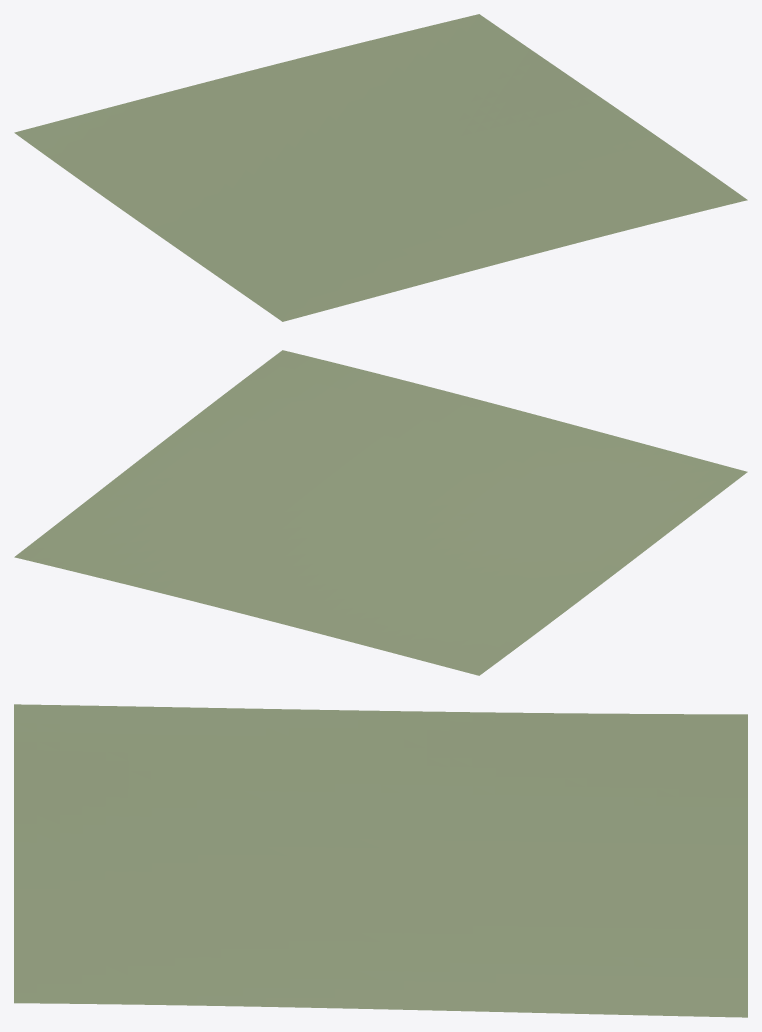
File: expanse-7-15.glb
The picture shows the model from 3 angles, top to bottom: view 1: azimuth 30°, elevation 25°; view 2: azimuth 150°, elevation 25°; view 3: azimuth 270°, elevation 25°; orthographic projection. The views are drawn at different scales.
Parts seen in each view (by area): view 1: expanse-7-15; view 2: expanse-7-15; view 3: expanse-7-15.
Part boxes in pixels (left/top/right/bottom): expanse-7-15: left=14, top=14, right=747, bottom=321; expanse-7-15: left=14, top=350, right=747, bottom=675; expanse-7-15: left=14, top=704, right=747, bottom=1017.
Bounding box in the file's own units: 256 × 8.23 × 256.
